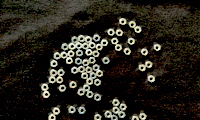nut: (53, 108, 61, 116), (41, 84, 49, 92), (50, 70, 58, 78), (56, 77, 64, 85), (59, 85, 67, 93), (78, 89, 86, 97), (94, 79, 102, 87), (89, 57, 97, 65), (115, 44, 123, 52), (129, 21, 137, 29), (154, 44, 162, 52), (148, 76, 156, 84), (43, 92, 51, 99), (51, 60, 58, 68), (54, 53, 61, 61), (69, 107, 76, 115), (70, 82, 77, 90), (78, 108, 86, 115), (61, 52, 68, 60), (66, 58, 74, 65), (69, 43, 76, 51), (72, 67, 79, 75), (76, 42, 83, 50), (76, 50, 84, 57), (79, 35, 86, 43), (83, 85, 91, 92), (86, 92, 94, 99), (95, 94, 102, 102), (79, 66, 86, 74), (81, 73, 89, 80), (87, 78, 94, 86), (82, 60, 90, 67), (90, 72, 97, 80), (86, 49, 93, 57), (89, 42, 96, 50), (97, 70, 104, 78), (93, 35, 101, 42), (101, 40, 109, 47), (105, 111, 112, 119), (113, 107, 120, 115), (140, 113, 148, 120), (111, 38, 119, 45), (116, 30, 124, 37), (120, 18, 127, 26), (124, 49, 132, 56), (128, 38, 135, 46), (135, 26, 142, 34), (141, 49, 149, 56), (49, 77, 56, 84), (58, 70, 65, 77), (62, 44, 69, 51), (68, 51, 75, 58), (72, 37, 79, 44), (86, 67, 93, 74), (82, 43, 89, 50), (93, 51, 100, 58), (93, 65, 100, 72), (103, 58, 110, 65), (96, 44, 103, 51), (113, 100, 120, 107), (119, 112, 126, 119), (108, 29, 115, 36), (139, 65, 146, 72), (146, 62, 153, 69), (76, 58, 82, 66), (86, 36, 92, 44), (49, 115, 56, 120), (95, 115, 102, 120), (111, 115, 118, 120), (132, 117, 140, 120)
